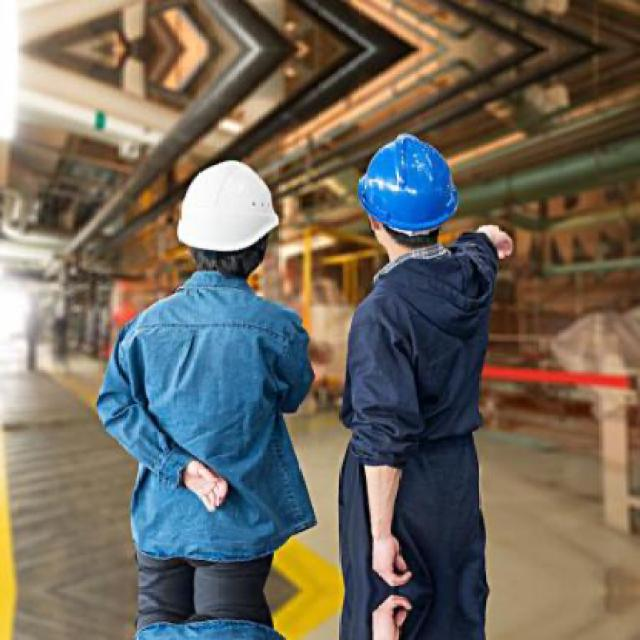con casco: (132, 149, 351, 320), (413, 107, 514, 221)
